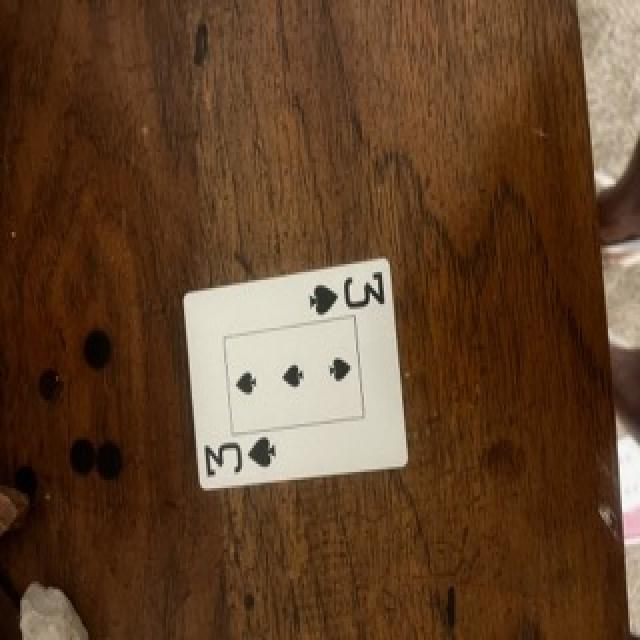3 of spades: (184, 258, 406, 488)
